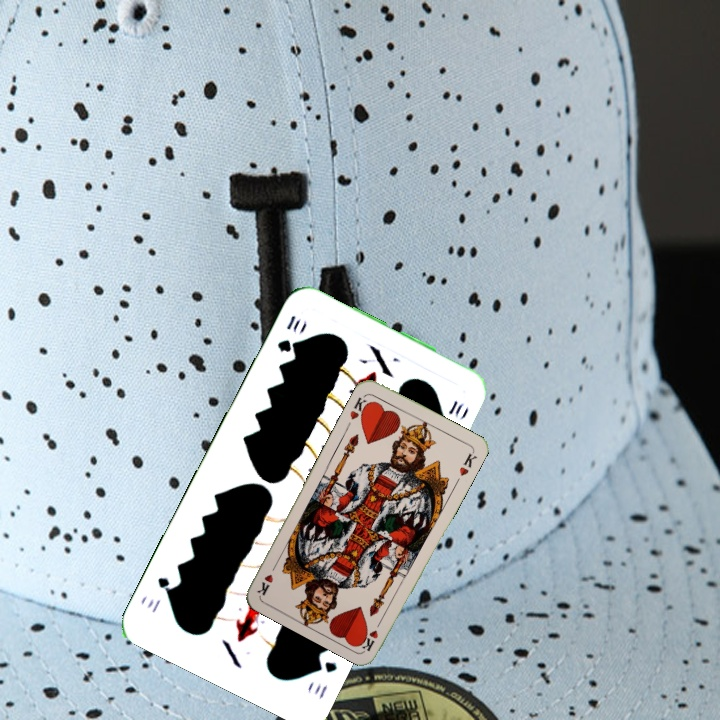G10: (309, 656, 340, 702), (273, 311, 304, 355)
HK: (358, 614, 386, 653), (346, 391, 373, 423)
